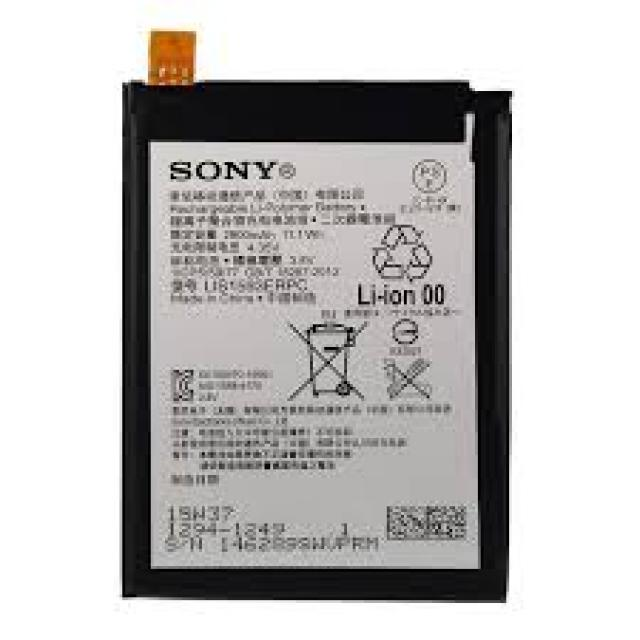non-organic waste: (118, 23, 515, 604)
